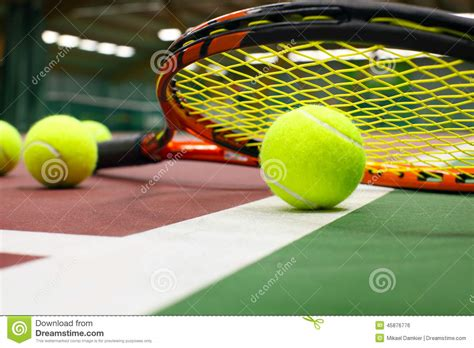tennis_ball: (259, 105, 366, 209), (23, 114, 97, 189), (1, 119, 23, 177), (79, 120, 111, 142)
